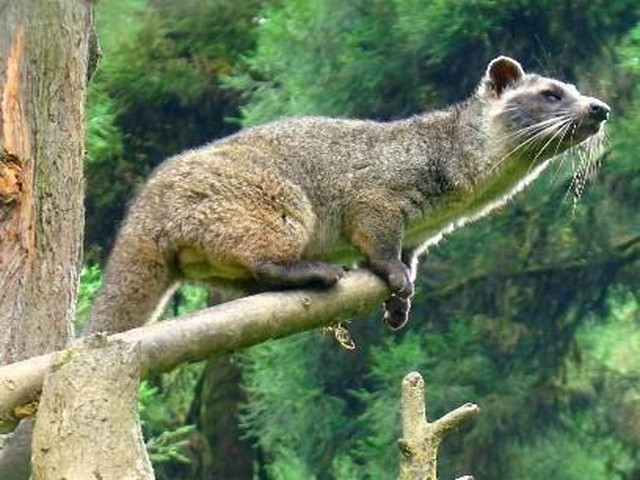civet: (92, 50, 615, 333)
